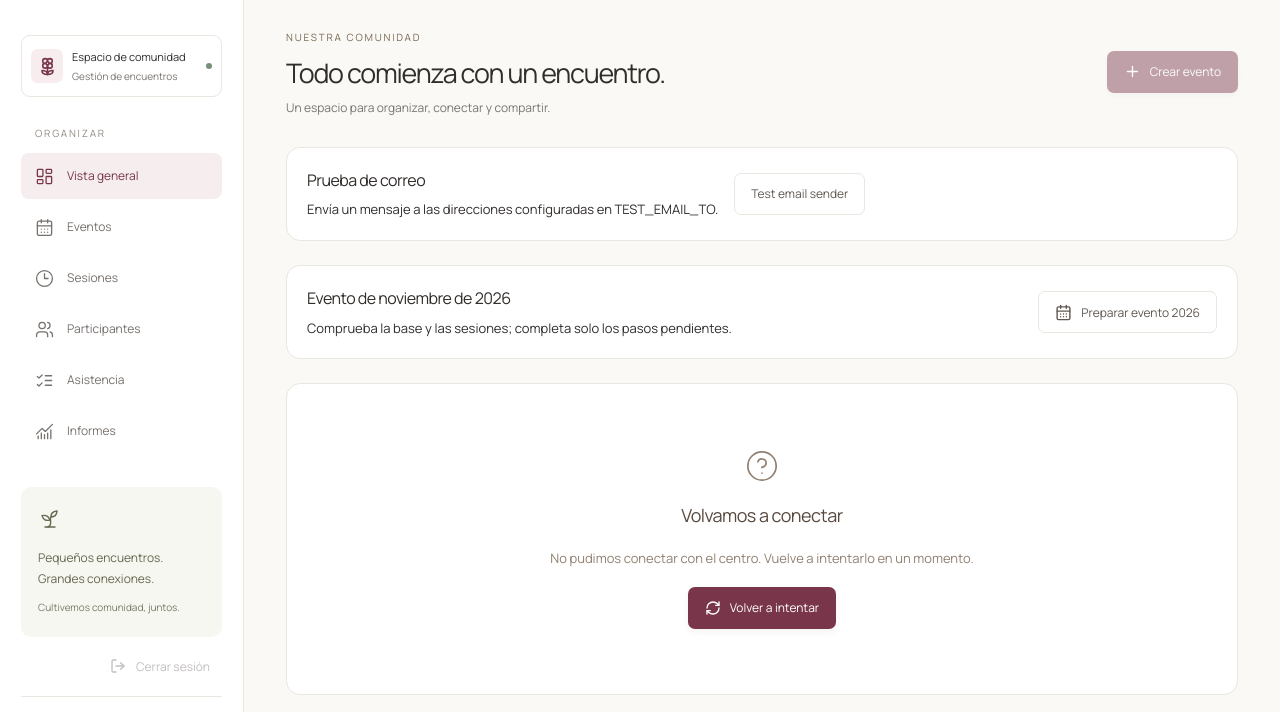
it: React management views › shows connection failures without substituting sample data and allows retry
Expected: the message shows "Volvamos a conectar", [681,503,843,527]
Click the button "Volver a intentar".
click(762, 608)  # box [688,587,836,629]
(page scrolled)
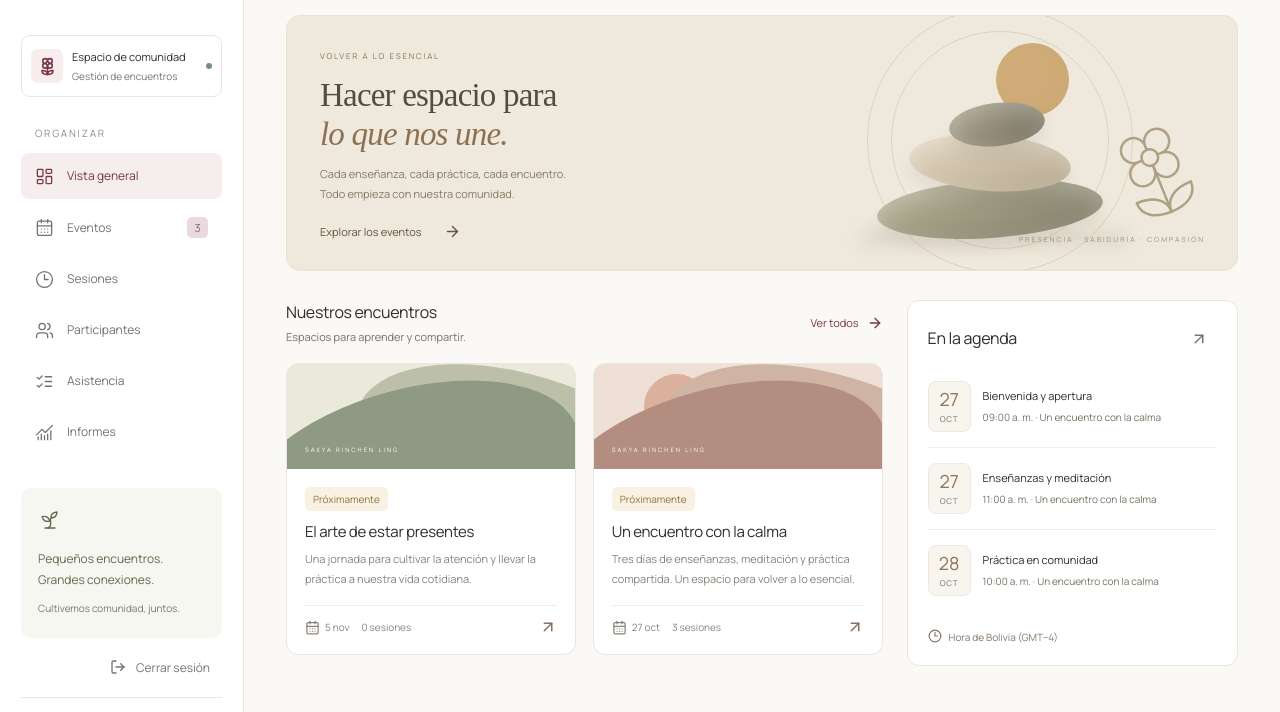
Now the heading "Nuestros encuentros" is shown, box [286,301,437,323]
